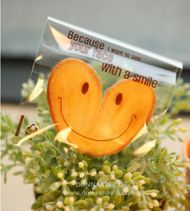Snack: (11, 15, 184, 168)
